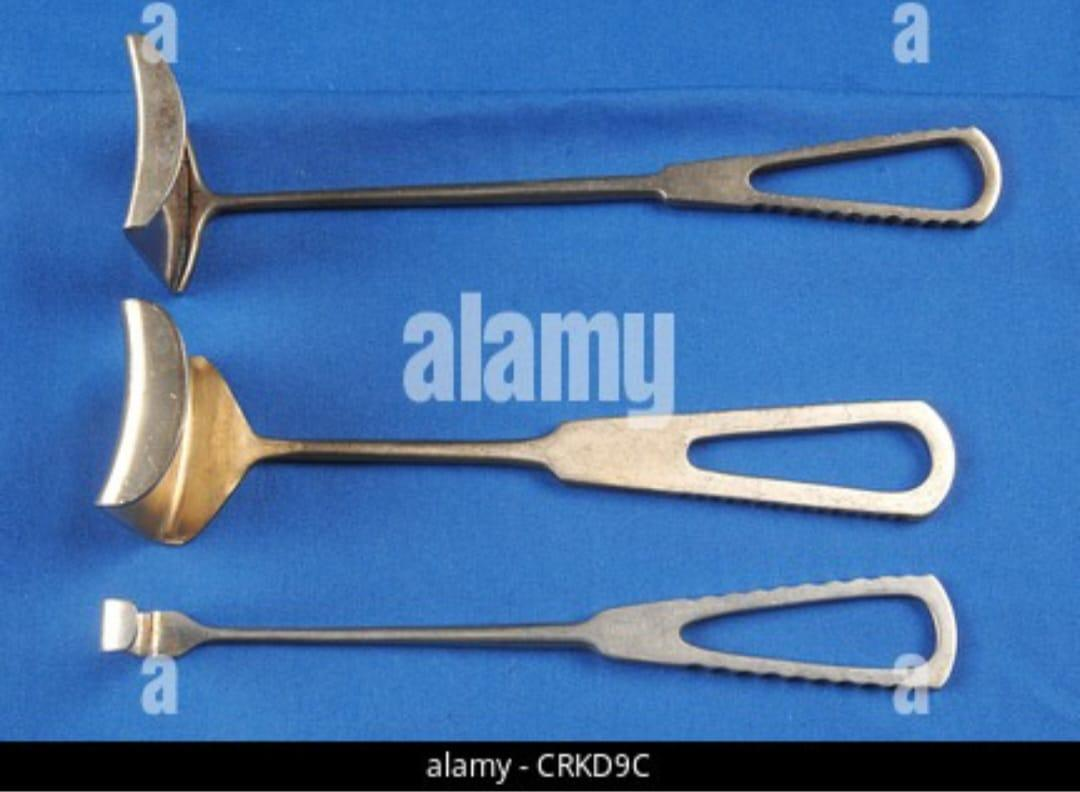Morris Retractor: (104, 16, 1013, 288), (76, 285, 954, 556)
